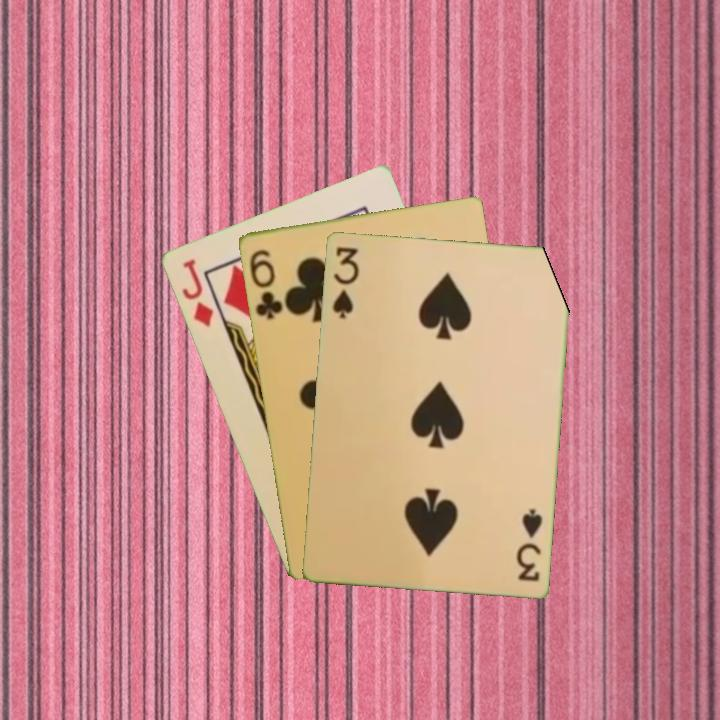3s: (512, 504, 545, 584), (329, 242, 362, 321)
6c: (245, 245, 285, 322)
Jd: (177, 255, 216, 329)
